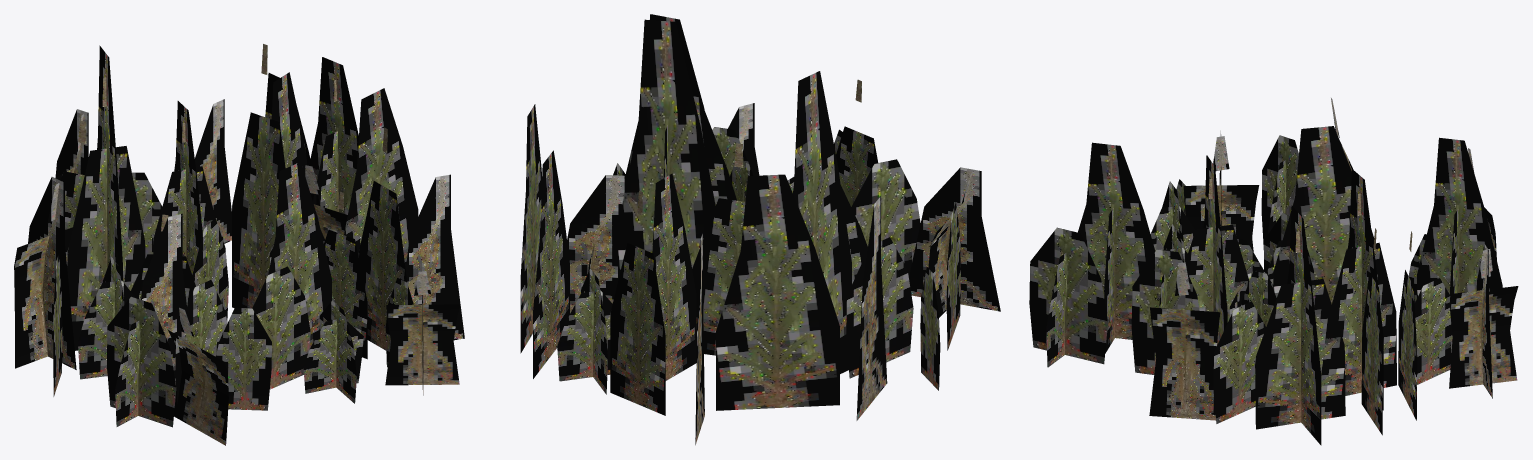
Rendered from reeds_small.glb.
The picture shows the model from 3 angles, left to right: view 1: azimuth 30°, elevation 25°; view 2: azimuth 150°, elevation 25°; view 3: azimuth 270°, elevation 25°; orthographic projection. The views are drawn at different scales.
Visible parts, largest first — view 1: reeds_small_LOD0; view 2: reeds_small_LOD0; view 3: reeds_small_LOD0.
Boxes of the visible parts, x1=… form: reeds_small_LOD0: x1=14, y1=44, x2=464, y2=445; reeds_small_LOD0: x1=520, y1=14, x2=1000, y2=445; reeds_small_LOD0: x1=1029, y1=98, x2=1518, y2=445.
Size of the model in its own units: 4.18 by 3 by 4.54.
1 material, 1 textured.
